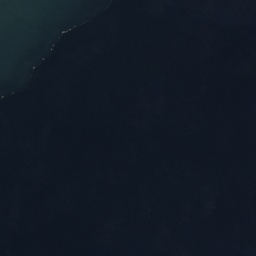Marine Debris: (60, 25, 78, 36), (50, 43, 56, 52), (0, 95, 5, 100), (32, 66, 36, 70), (41, 58, 45, 61)
